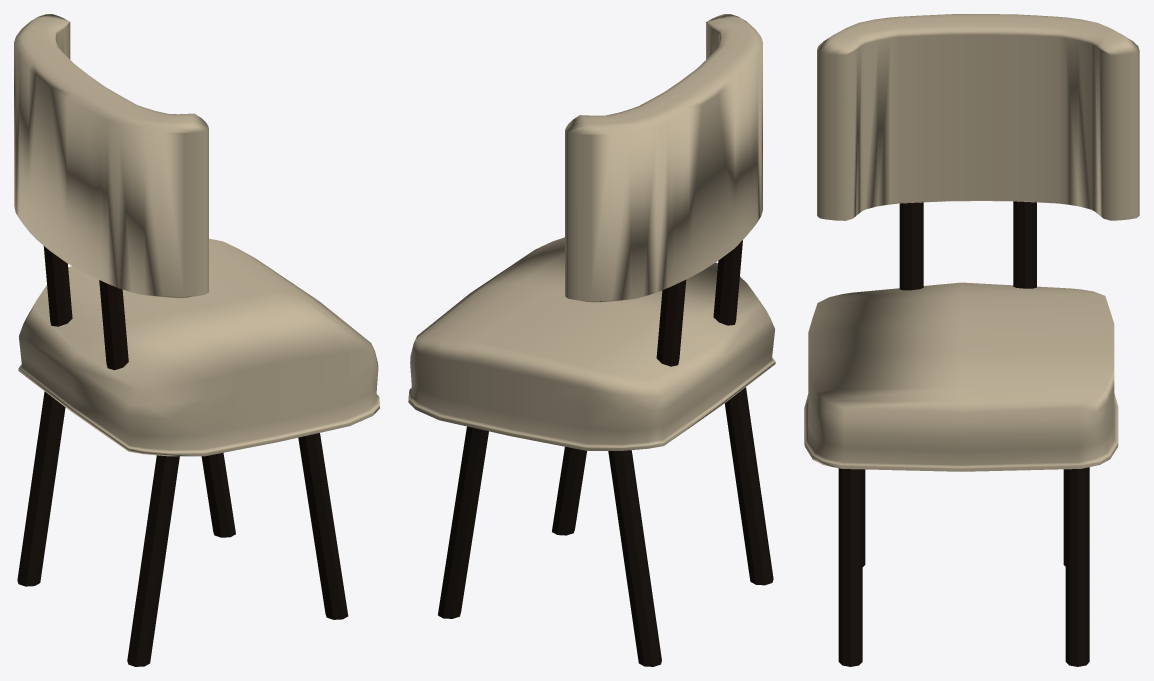
File: m_navajo_chair_lod1.fbx
The picture shows the model from 3 angles, left to right: view 1: azimuth 30°, elevation 25°; view 2: azimuth 150°, elevation 25°; view 3: azimuth 270°, elevation 25°; orthographic projection.
Visible parts, largest first — view 1: polySurface30; view 2: polySurface30; view 3: polySurface30.
Boxes of the visible parts, x1=… form: polySurface30: x1=14, y1=14, x2=379, y2=666; polySurface30: x1=408, y1=14, x2=775, y2=666; polySurface30: x1=804, y1=14, x2=1139, y2=666.
Size of the model in its own units: 4.81 by 9.38 by 5.24.
